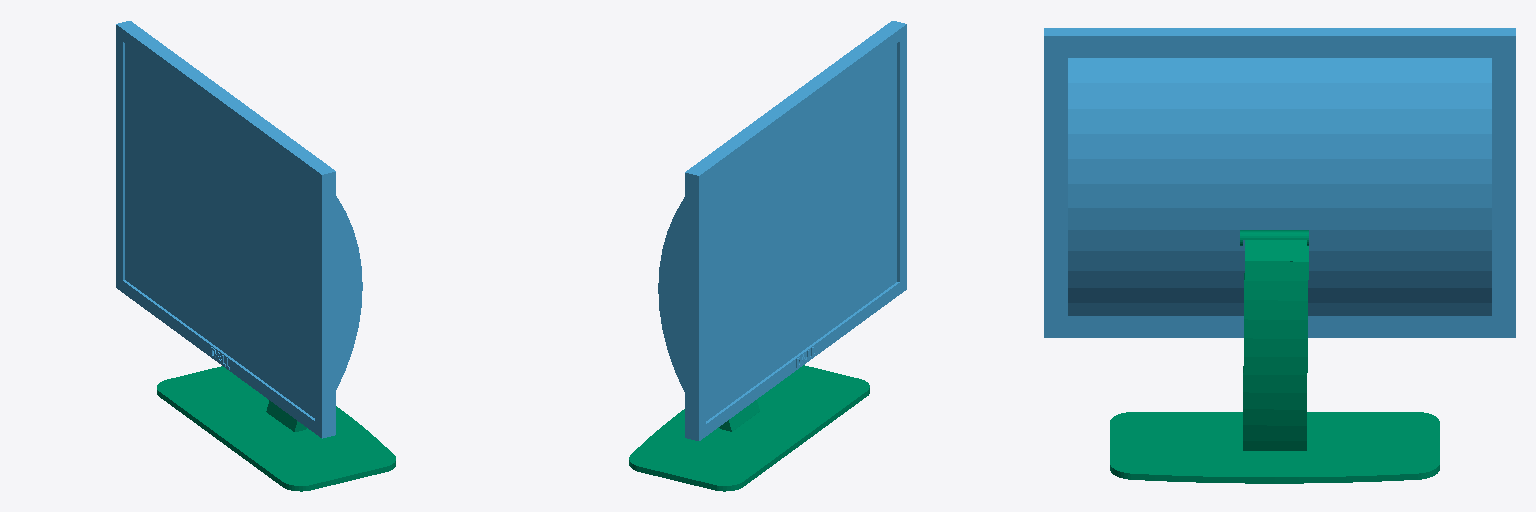
robot.urdf — partnet_1a5494c28b607f699263b5578aef09fa:
<?xml version="1.0" ?>
<robot name="partnet_1a5494c28b607f699263b5578aef09fa">
	<link name="base"/>
	<link name="link_0">
		<visual name="frame-6">
			<origin xyz="-0.12023099999999998 -0.06139036951659382 0.09590392734686537"/>
			<geometry>
				<mesh filename="textured_objs/new-3.obj"/>
			</geometry>
		</visual>
		<visual name="screen-7">
			<origin xyz="-0.12023099999999998 -0.06139036951659382 0.09590392734686537"/>
			<geometry>
				<mesh filename="textured_objs/new-2.obj"/>
			</geometry>
		</visual>
		<collision>
			<origin xyz="-0.12023099999999998 -0.06139036951659382 0.09590392734686537"/>
			<geometry>
				<mesh filename="textured_objs/new-3.obj"/>
			</geometry>
		</collision>
		<collision>
			<origin xyz="-0.12023099999999998 -0.06139036951659382 0.09590392734686537"/>
			<geometry>
				<mesh filename="textured_objs/new-2.obj"/>
			</geometry>
		</collision>
	</link>
	<joint name="joint_0" type="revolute">
		<origin xyz="0.12023099999999998 0.06139036951659382 -0.09590392734686537"/>
		<axis xyz="-1 0 0"/>
		<child link="link_0"/>
		<parent link="link_1"/>
		<limit lower="-0.48380526865282814" upper="2.029468854219006"/>
	</joint>
	<link name="link_1">
		<visual name="base_support-4">
			<origin xyz="0 0 0"/>
			<geometry>
				<mesh filename="textured_objs/new-1.obj"/>
			</geometry>
		</visual>
		<visual name="surface-5">
			<origin xyz="0 0 0"/>
			<geometry>
				<mesh filename="textured_objs/new-0.obj"/>
			</geometry>
		</visual>
		<collision>
			<origin xyz="0 0 0"/>
			<geometry>
				<mesh filename="textured_objs/new-1.obj"/>
			</geometry>
		</collision>
		<collision>
			<origin xyz="0 0 0"/>
			<geometry>
				<mesh filename="textured_objs/new-0.obj"/>
			</geometry>
		</collision>
	</link>
	<joint name="joint_1" type="fixed">
		<origin rpy="1.570796326794897 0 -1.570796326794897" xyz="0 0 0"/>
		<child link="link_1"/>
		<parent link="base"/>
	</joint>
</robot>

--- Render facts (derived) ---
Views: 3 orthographic renders of the robot side by side, from view 1: azimuth 30°, elevation 25°; view 2: azimuth 150°, elevation 25°; view 3: azimuth 270°, elevation 25°.
Robot: partnet_1a5494c28b607f699263b5578aef09fa — 3 links, 2 joints (1 revolute, 1 fixed); root link base; default pose: every joint at zero.
Links seen in each view (by area): view 1: link_0, link_1; view 2: link_0, link_1; view 3: link_0, link_1.
Boxes of the visible links, x1=… form: link_0: x1=116, y1=21, x2=362, y2=438; link_1: x1=157, y1=366, x2=395, y2=491; link_0: x1=658, y1=21, x2=906, y2=440; link_1: x1=629, y1=365, x2=869, y2=491; link_0: x1=1044, y1=28, x2=1515, y2=337; link_1: x1=1110, y1=230, x2=1439, y2=483.
Size in the robot's own frame: 0.4933 by 1.48 by 1.35 metres.
4 mesh visuals loaded from 4 distinct referenced files (4 OBJ).
